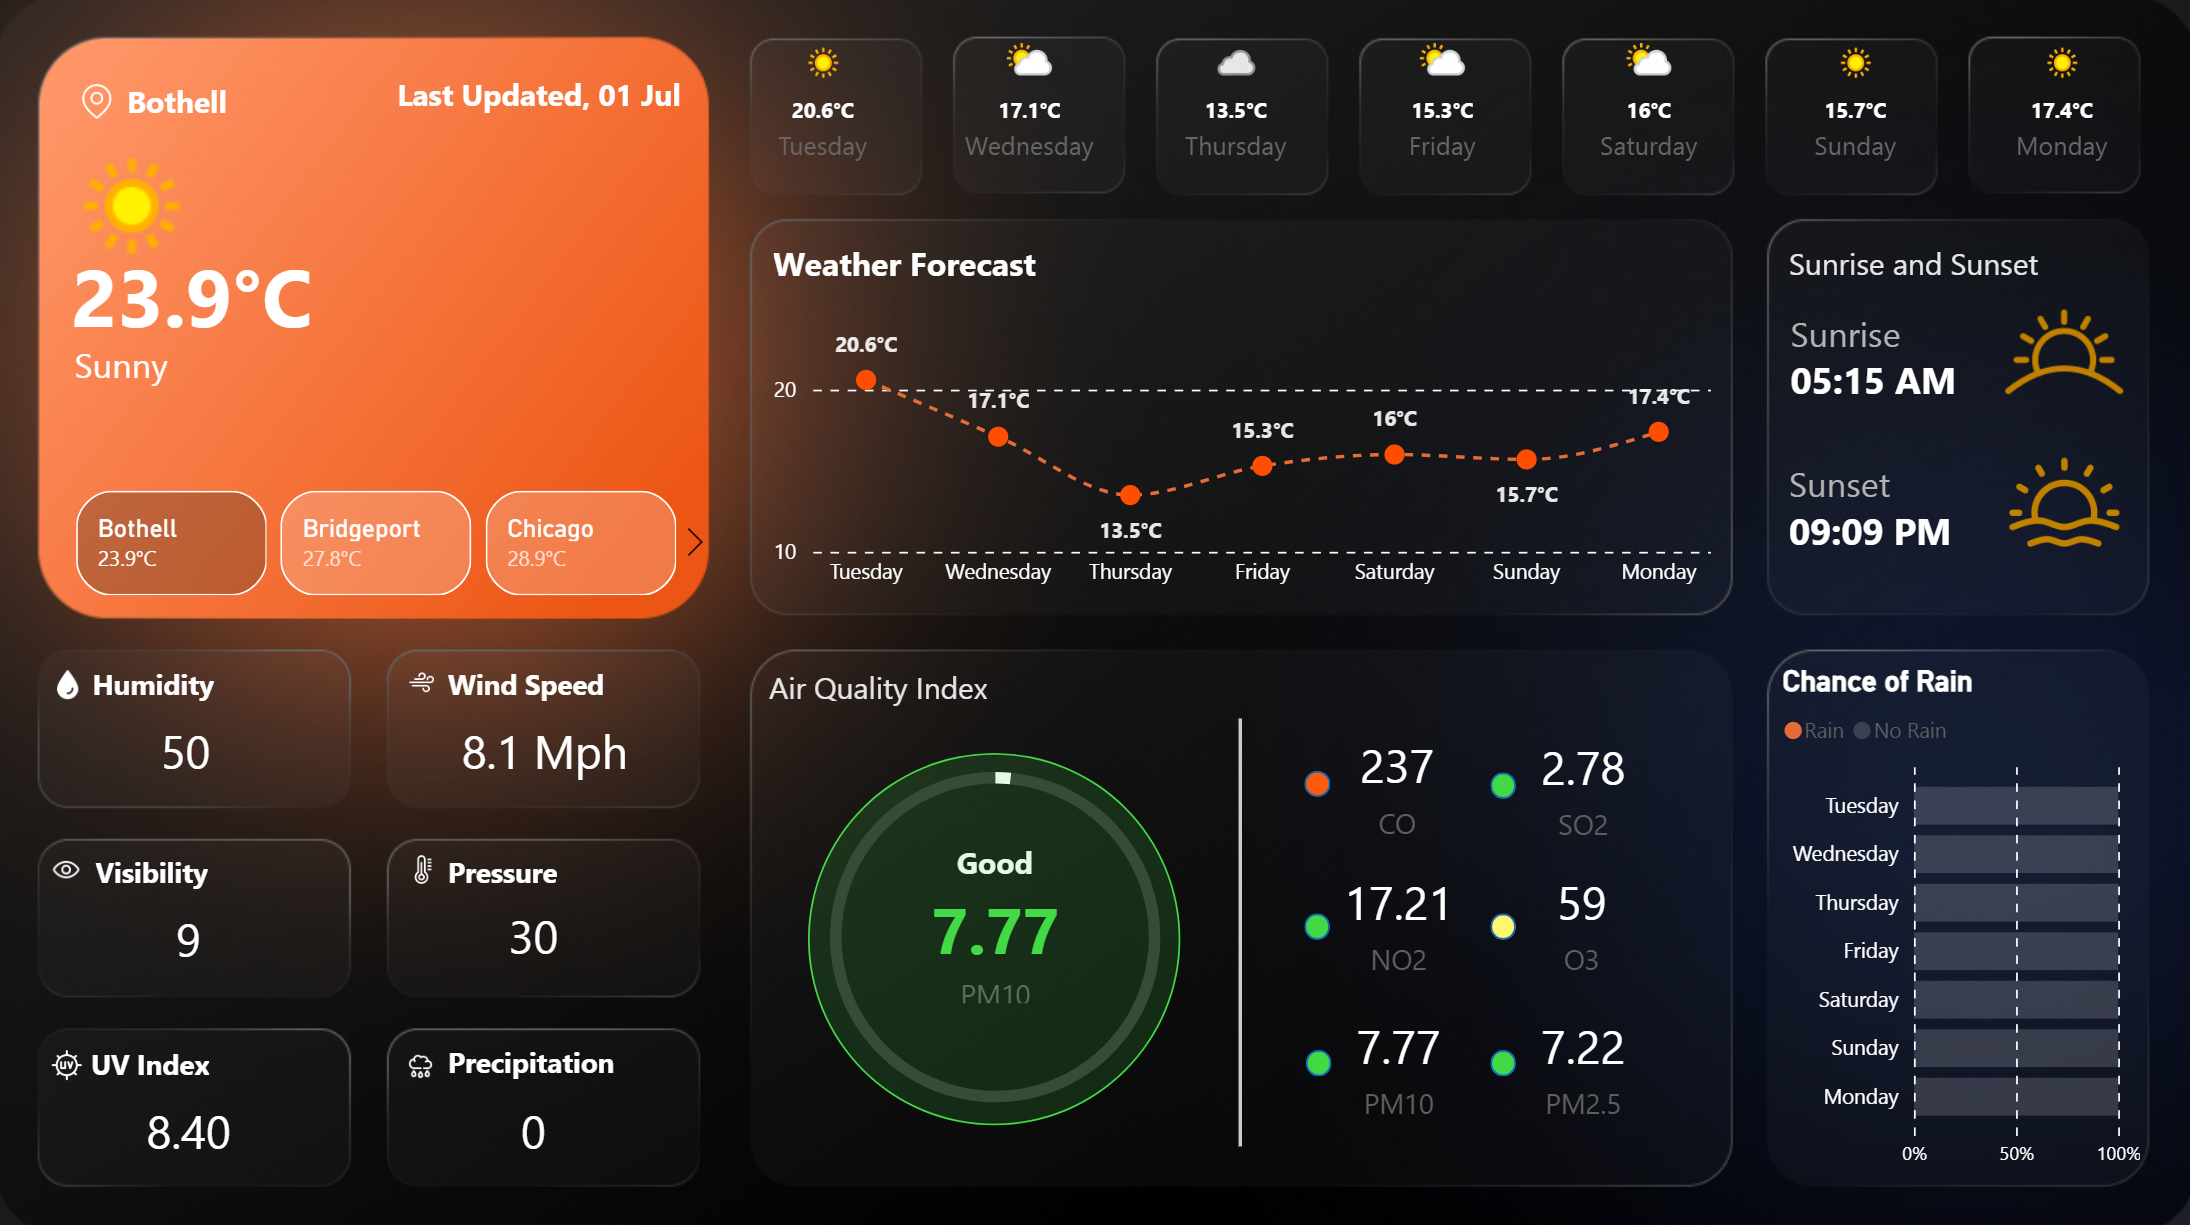

The dashboard page shown, as its layout file describes it:
{"tool":"powerbi","page":{"name":"Page 1","canvas":[1280,720],"ordinal":0},"visuals":[{"type":"advancedSlicerVisual","fields":{"Values":["locations.location.name"]},"box":[21.4,281.4,400,71.4],"z":0},{"type":"shape","box":[44.3,132.9,144.3,80],"z":1000},{"type":"shape","box":[46.2,200,145,27.5],"z":2000},{"type":"shape","box":[76.5,47.6,145.3,24.1],"z":3000},{"type":"shape","box":[191.2,40,207.5,40],"z":4000},{"type":"image","box":[41.4,45.2,34.8,30],"z":5000},{"type":"cardVisual","fields":{"Data":["Min(Current.current.condition.icon)"]},"box":[12.5,53.8,127.5,120],"z":6000},{"type":"image","box":[27.9,385,28.6,28.6],"z":7000},{"type":"shape","box":[56.4,387.1,84.3,23.6],"z":8000},{"type":"image","box":[27.1,490.7,28.6,32.9],"z":9000},{"type":"shape","box":[58.6,495.7,84.3,23.6],"z":10000},{"type":"image","box":[27.1,604.3,29.3,32.9],"z":11000},{"type":"shape","box":[55.7,607.1,84.3,23.6],"z":12000},{"type":"image","box":[233.6,385,29.3,25.7],"z":13000},{"type":"shape","box":[263.3,386.7,100,23.3],"z":14000},{"type":"image","box":[234.4,493.3,28.9,26.7],"z":15000},{"type":"shape","box":[263.3,495.6,100,23.3],"z":16000},{"type":"image","box":[233.3,605.6,26.7,31.1],"z":17000},{"type":"shape","box":[263,607,100,23.5],"z":18000},{"type":"card","fields":{"Values":["Sum(Current.current.humidity)"]},"box":[81.4,410,58.6,58.6],"z":19000},{"type":"card","fields":{"Values":["Sum(Current.current.vis_miles)"]},"box":[82.9,518.6,58.6,58.6],"z":20000},{"type":"card","fields":{"Values":["Sum(Current.current.uv)"]},"box":[71.4,630,81.4,58.6],"z":21000},{"type":"card","fields":{"Values":["_Measures.Wind_Speed"]},"box":[249.7,410.2,127.1,58.6],"z":22000},{"type":"card","fields":{"Values":["Sum(Current.current.pressure_in)"]},"box":[282.9,517.1,58.6,58.6],"z":23000},{"type":"card","fields":{"Values":["Sum(Current.current.precip_in)"]},"box":[282.9,630,58.6,58.6],"z":24000},{"type":"advancedSlicerVisual","fields":{"Values":["Forcast.Day_Name"]},"box":[421.4,22.1,839.8,97.6],"z":25000},{"type":"lineChart","title":"Weather Forecast","fields":{"Y":["Sum(Forcast.forecast.forecastday.day.avgtemp_c)"],"Category":["Forcast.Day_Name"]},"box":[447,142,555,210],"z":26000},{"type":"shape","box":[1042.2,142.2,190,24.4],"z":27000},{"type":"shape","box":[1043.3,168.9,153.3,52.2],"z":28000},{"type":"shape","box":[1042.6,256.3,153.3,52.2],"z":29000},{"type":"shape","box":[1043.3,195.6,153.3,52.2],"z":30000},{"type":"shape","box":[1042.6,283,153.3,52.2],"z":31000},{"type":"image","box":[1153.3,256.7,98.3,74.2],"z":32000},{"type":"image","box":[1131.7,155,141.7,101.7],"z":33000},{"type":"hundredPercentStackedBarChart","title":"Chance of Rain","fields":{"Y":["Sum(Forcast.forecast.forecastday.day.daily_chance_of_rain)","_Measures.Left_value_rain"],"Category":["Forcast.Day_Name"]},"box":[1033.8,386.9,217.7,301.5],"z":34000},{"type":"shape","box":[450,389,190,25],"z":35000},{"type":"card","fields":{"Values":["Sum(Current.current.air_quality.so2)"]},"box":[869,420,107,77],"z":36000},{"type":"card","fields":{"Values":["Sum(Current.current.air_quality.o3)"]},"box":[868,499,107,77],"z":37000},{"type":"card","fields":{"Values":["Sum(Current.current.air_quality.co)"]},"box":[761,419,107,77],"z":38000},{"type":"card","fields":{"Values":["Sum(Current.current.air_quality.pm2_5)"]},"box":[869,582,107,77],"z":39000},{"type":"card","fields":{"Values":["Sum(Current.current.air_quality.no2)"]},"box":[762,499,107,77],"z":40000},{"type":"card","fields":{"Values":["Sum(Current.current.air_quality.pm10)"]},"box":[762,582,107,77],"z":41000},{"type":"shape","box":[760.8,450,15,15],"z":42000},{"type":"shape","box":[761.1,532.6,14.7,15.3],"z":43000},{"type":"shape","box":[762.1,611.6,14.7,15.3],"z":44000},{"type":"shape","box":[868.9,451.1,14.7,15.3],"z":45000},{"type":"shape","box":[868.9,532.6,14.7,15.3],"z":46000},{"type":"shape","box":[868.9,611.6,14.7,15.3],"z":47000},{"type":"shape","box":[620,418.9,207.8,248.9],"z":48000},{"type":"card","fields":{"Values":["Sum(Current.current.air_quality.pm10)"]},"box":[522.2,491.1,117.8,98.9],"z":49000},{"type":"donutChart","fields":{"Y":["Sum(Current.current.air_quality.pm10)","_Measures.Left_value_PM10"]},"box":[455.6,421.1,250,250],"z":50000},{"type":"shape","box":[472.7,439.1,216.4,216.4],"z":51000}]}

Visuals, with their boxes in screenshot pixels (x1, y1, x2, y2), scaled from the page's 1280x720 canvas onto the 2190x1225 screenshot:
advancedSlicerVisual - locations.location.name: select_region(37, 479, 721, 600)
shape: select_region(76, 226, 323, 362)
shape: select_region(79, 340, 327, 387)
shape: select_region(131, 81, 379, 122)
shape: select_region(327, 68, 682, 136)
image: select_region(71, 77, 130, 128)
cardVisual - Min(Current.current.condition.icon): select_region(21, 92, 240, 296)
image: select_region(48, 655, 97, 704)
shape: select_region(96, 659, 241, 699)
image: select_region(46, 835, 95, 891)
shape: select_region(100, 843, 244, 884)
image: select_region(46, 1028, 96, 1084)
shape: select_region(95, 1033, 240, 1073)
image: select_region(400, 655, 450, 699)
shape: select_region(450, 658, 622, 698)
image: select_region(401, 839, 450, 885)
shape: select_region(450, 843, 622, 883)
image: select_region(399, 1030, 445, 1083)
shape: select_region(450, 1033, 621, 1073)
card - Sum(Current.current.humidity): select_region(139, 698, 240, 797)
card - Sum(Current.current.vis_miles): select_region(142, 882, 242, 982)
card - Sum(Current.current.uv): select_region(122, 1072, 261, 1172)
card - _Measures.Wind_Speed: select_region(427, 698, 645, 798)
card - Sum(Current.current.pressure_in): select_region(484, 880, 584, 979)
card - Sum(Current.current.precip_in): select_region(484, 1072, 584, 1172)
advancedSlicerVisual - Forcast.Day_Name: select_region(721, 38, 2158, 204)
"Weather Forecast" lineChart: select_region(765, 242, 1714, 599)
shape: select_region(1783, 242, 2108, 283)
shape: select_region(1785, 287, 2047, 376)
shape: select_region(1784, 436, 2046, 525)
shape: select_region(1785, 333, 2047, 422)
shape: select_region(1784, 481, 2046, 570)
image: select_region(1973, 437, 2141, 563)
image: select_region(1936, 264, 2179, 437)
"Chance of Rain" hundredPercentStackedBarChart: select_region(1769, 658, 2141, 1171)
shape: select_region(770, 662, 1095, 704)
card - Sum(Current.current.air_quality.so2): select_region(1487, 715, 1670, 846)
card - Sum(Current.current.air_quality.o3): select_region(1485, 849, 1668, 980)
card - Sum(Current.current.air_quality.co): select_region(1302, 713, 1485, 844)
card - Sum(Current.current.air_quality.pm2_5): select_region(1487, 990, 1670, 1121)
card - Sum(Current.current.air_quality.no2): select_region(1304, 849, 1487, 980)
card - Sum(Current.current.air_quality.pm10): select_region(1304, 990, 1487, 1121)
shape: select_region(1302, 766, 1327, 791)
shape: select_region(1302, 906, 1327, 932)
shape: select_region(1304, 1041, 1329, 1067)
shape: select_region(1487, 767, 1512, 794)
shape: select_region(1487, 906, 1512, 932)
shape: select_region(1487, 1041, 1512, 1067)
shape: select_region(1061, 713, 1416, 1136)
card - Sum(Current.current.air_quality.pm10): select_region(893, 836, 1095, 1004)
donutChart - Sum(Current.current.air_quality.pm10) x _Measures.Left_value_PM10: select_region(780, 716, 1207, 1142)
shape: select_region(809, 747, 1179, 1115)
